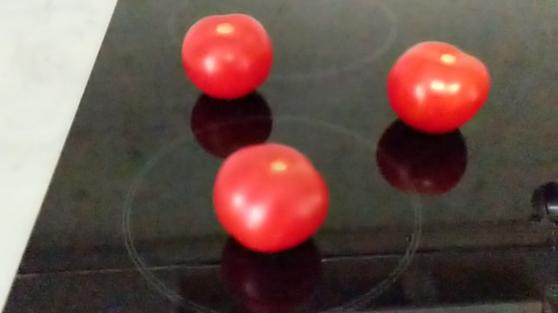tomato: (214, 143, 330, 251), (389, 40, 490, 133), (182, 13, 271, 99)
